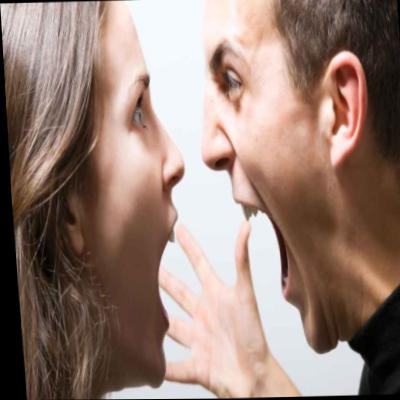angry: (191, 8, 363, 344), (56, 4, 194, 390)
